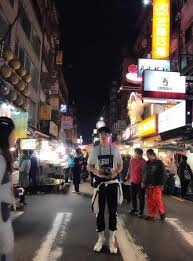people: (90, 127, 122, 253), (1, 117, 17, 261), (144, 148, 165, 220), (129, 148, 144, 216), (71, 148, 82, 192)
